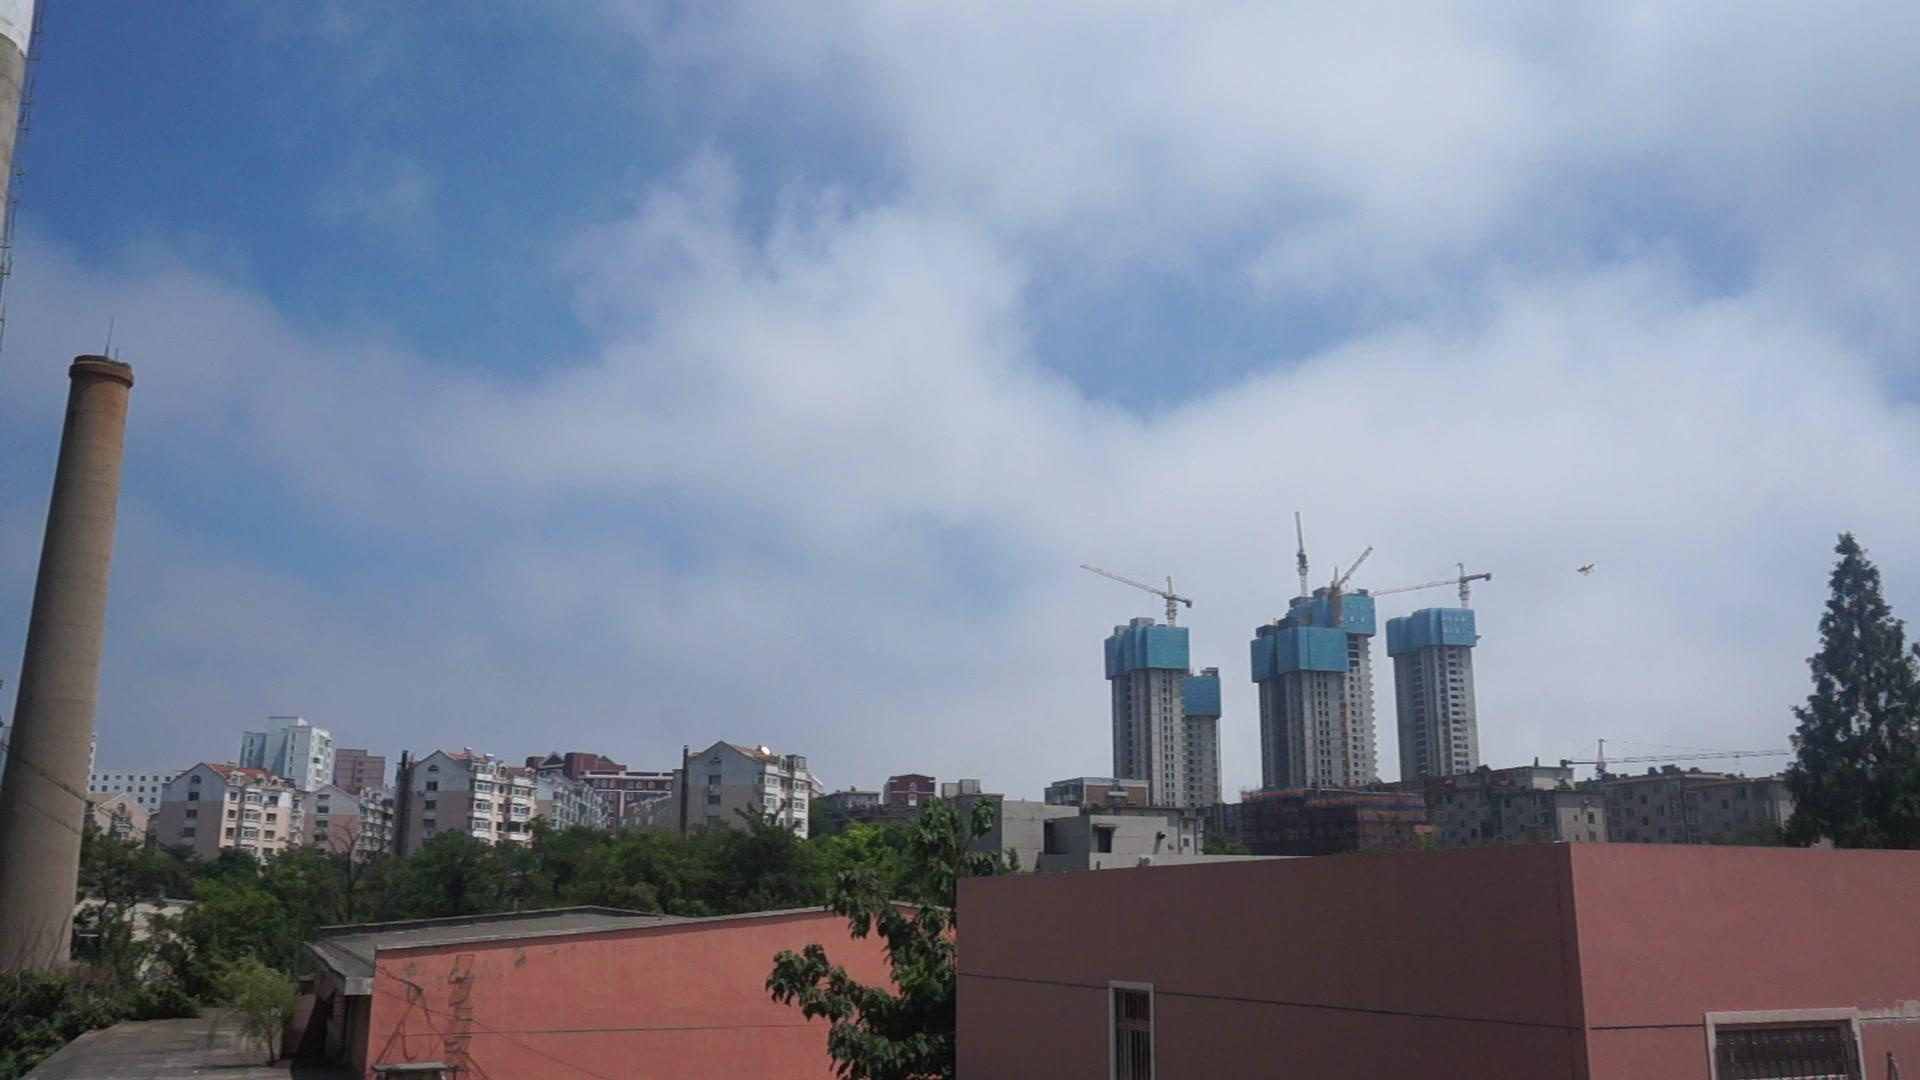UAV: (1578, 562, 1601, 578)
